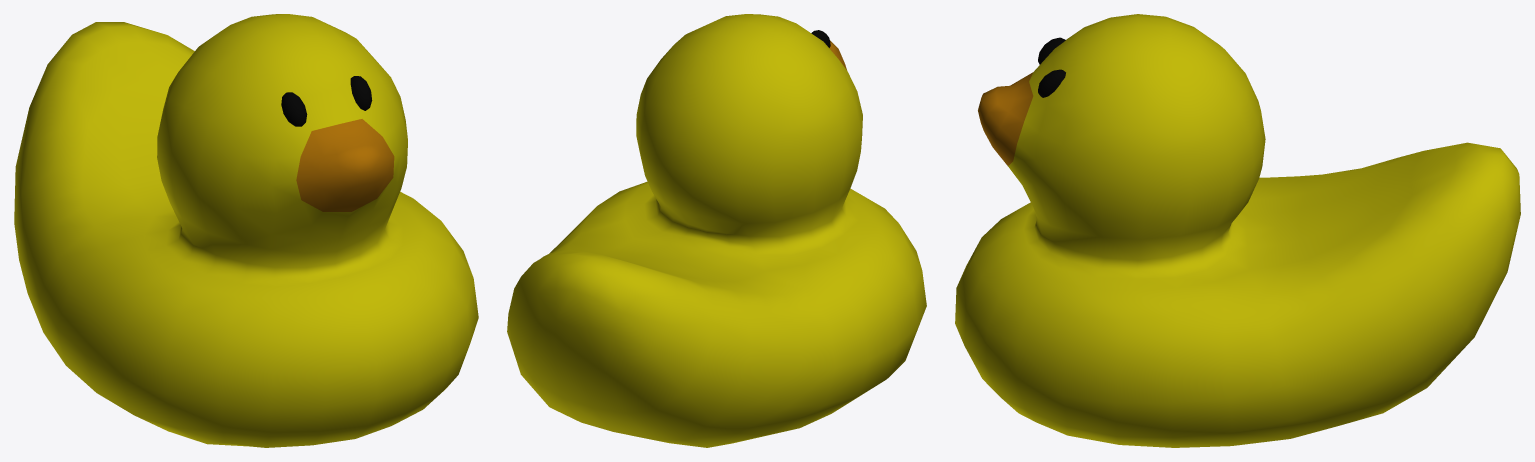
Rendered from 1rubber.glb.
3 renders of one model, left to right at view 1: azimuth 30°, elevation 25°; view 2: azimuth 150°, elevation 25°; view 3: azimuth 270°, elevation 25°, orthographic. The views are drawn at different scales.
Parts seen in each view (by area): view 1: SM_rubber_duck; view 2: SM_rubber_duck; view 3: SM_rubber_duck.
Part boxes in pixels (box(x1,y1,x2,y2)): SM_rubber_duck: box(14, 14, 478, 447); SM_rubber_duck: box(507, 14, 926, 447); SM_rubber_duck: box(955, 14, 1520, 447).
Size of the model in its own units: 10.93 by 10.93 by 15.16.
